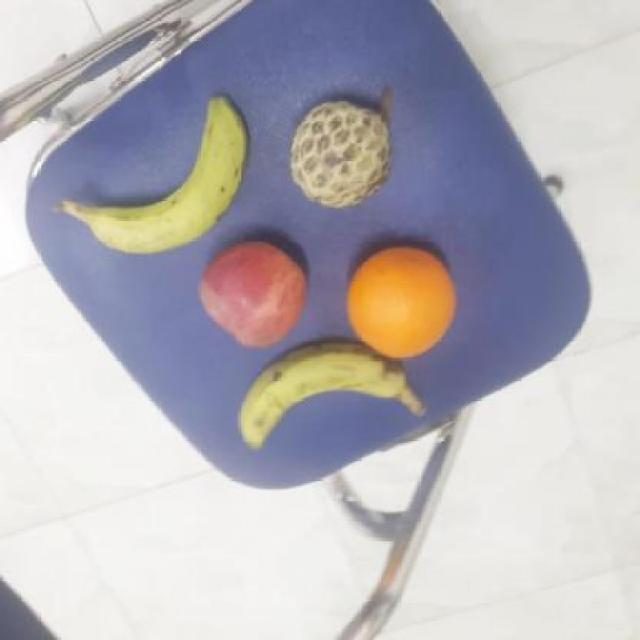apple: (189, 242, 311, 349)
banana: (89, 93, 256, 258), (224, 340, 411, 458)
oren: (344, 248, 458, 364)
sugar apple: (281, 100, 397, 212)
